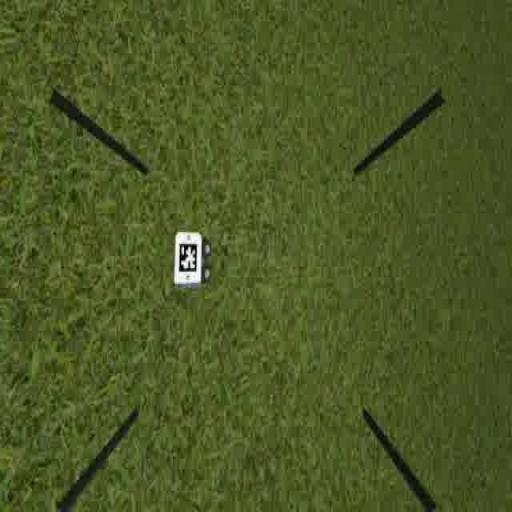UGV: (172, 231, 212, 289)
